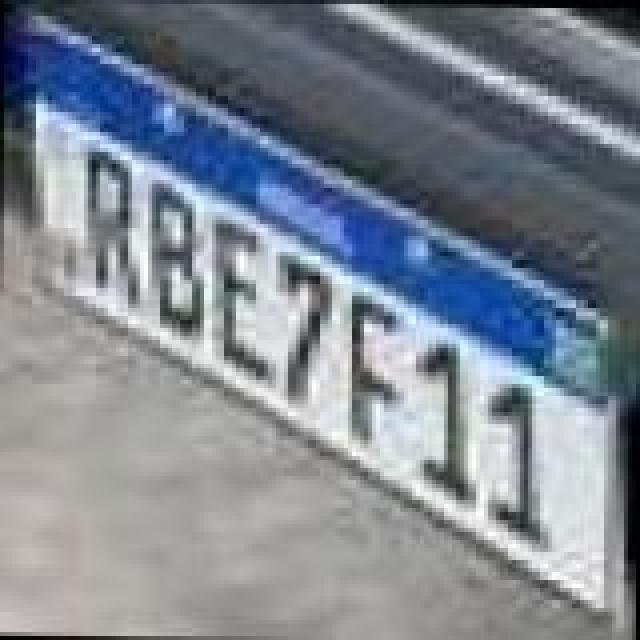1: (478, 380, 558, 556), (406, 334, 486, 506)
7: (270, 248, 338, 404)
B: (142, 182, 210, 346)
E: (210, 218, 286, 382)
F: (342, 288, 410, 444)
R: (80, 146, 148, 310)
